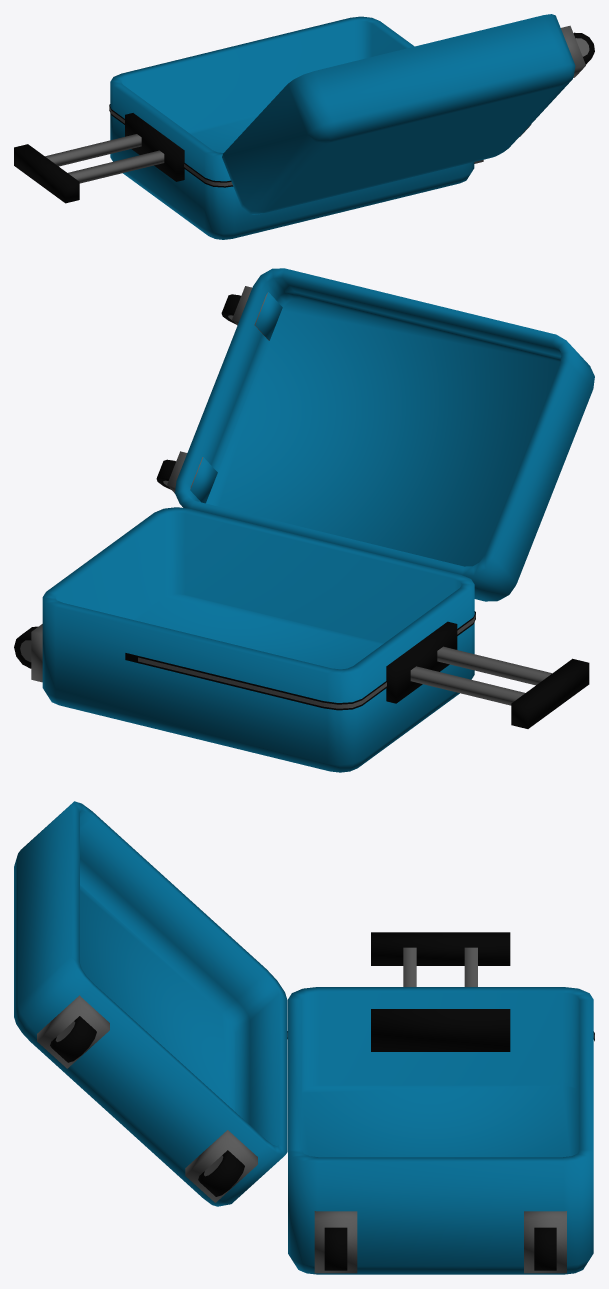
File: spilled_luggage.glb
The picture shows the model from 3 angles, top to bottom: view 1: azimuth 30°, elevation 25°; view 2: azimuth 150°, elevation 25°; view 3: azimuth 270°, elevation 25°; orthographic projection. The views are drawn at different scales.
Parts seen in each view (by area): view 1: Default Luggage Wheels.001, Default Luggage Bars, Default Luggage Zipper; view 2: Default Luggage Wheels.001, Default Luggage Bars, Default Luggage Zipper; view 3: Default Luggage Bars, Default Luggage Wheels.001.
Boxes of the visible parts, left/top/right/bottom form: Default Luggage Wheels.001: left=222, top=14, right=594, bottom=214; Default Luggage Bars: left=14, top=16, right=483, bottom=239; Default Luggage Zipper: left=109, top=104, right=233, bottom=187; Default Luggage Wheels.001: left=156, top=268, right=594, bottom=601; Default Luggage Bars: left=14, top=507, right=589, bottom=772; Default Luggage Zipper: left=125, top=611, right=475, bottom=710; Default Luggage Bars: left=288, top=932, right=593, bottom=1274; Default Luggage Wheels.001: left=14, top=801, right=287, bottom=1206.
Bounding box in the file's own units: 4.25 × 2.27 × 3.8.
